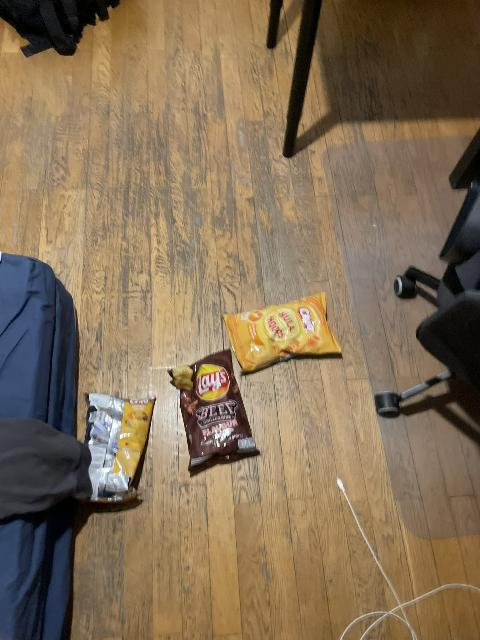Chio Cascaval 125g: (80, 391, 155, 503)
Chio Hula Hoops Cheese 70g: (224, 293, 343, 370)
Lays Beef Grilled Ribs 125g: (172, 351, 263, 469)
